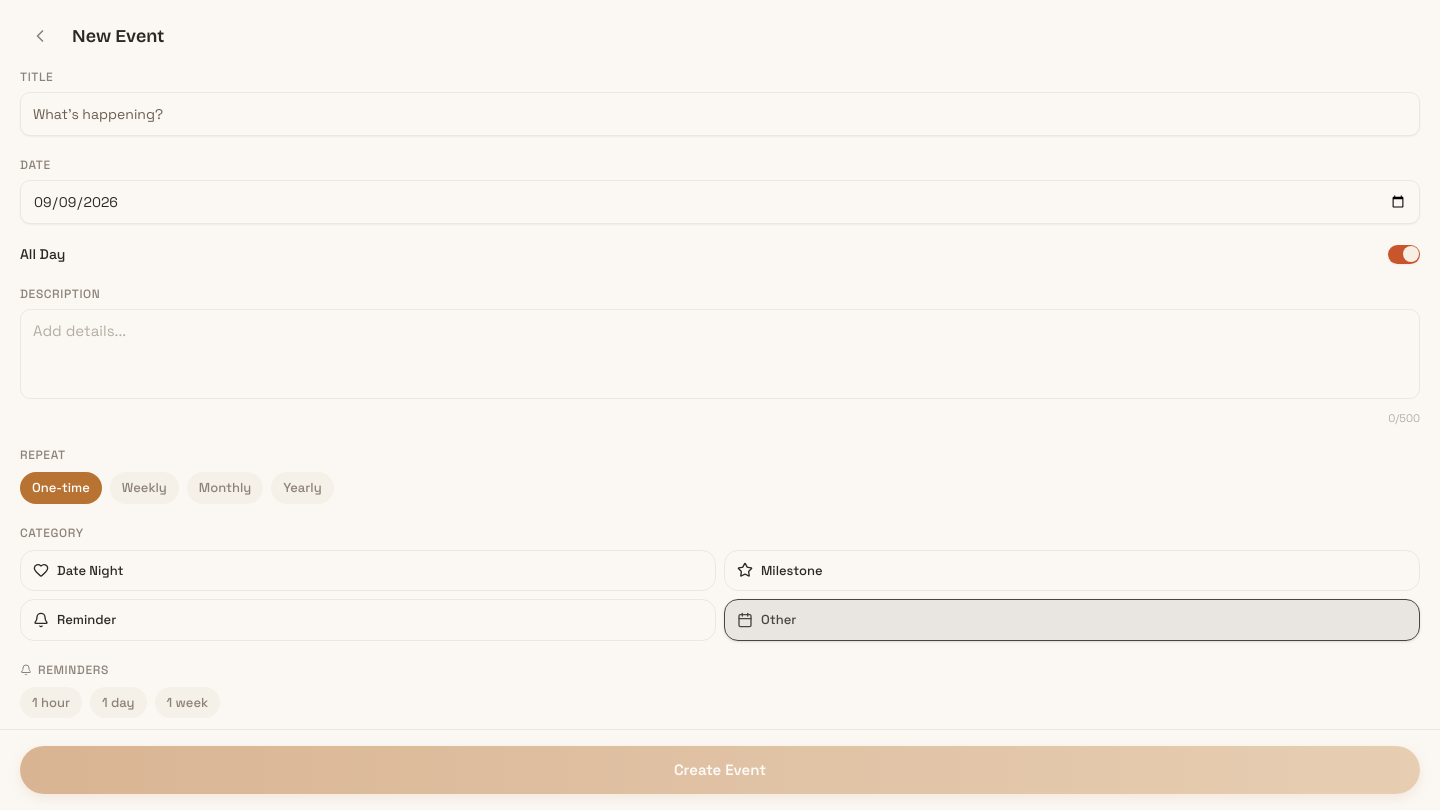
CreateEventForm › unit — create mode › shows time pickers when all-day is toggled off
This screenshot has width=1440, height=810.
Click the switch with test id "allday-toggle" at (1404, 254), box [1388,245,1420,264]
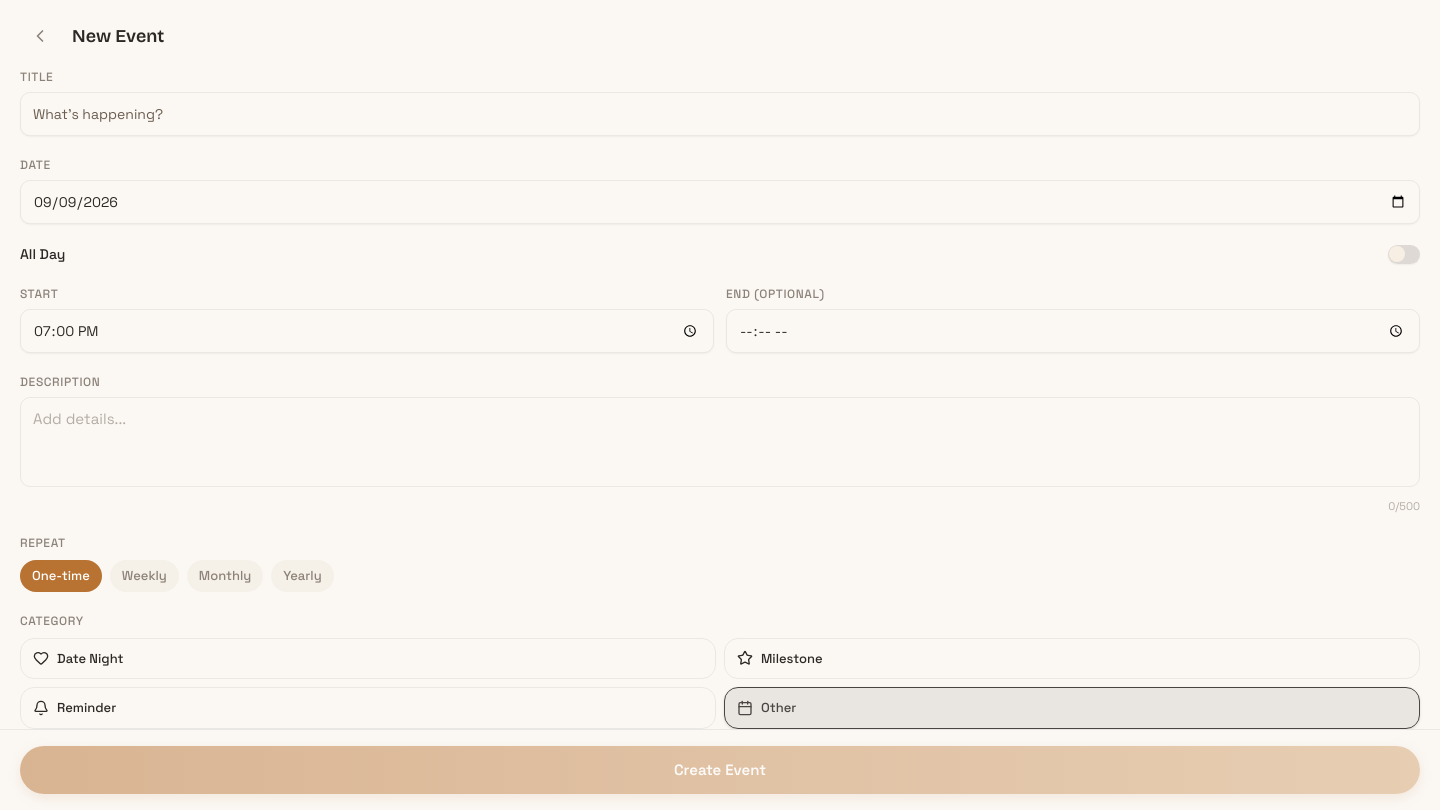
Expected: the element with test id "time-pickers" is shown, [20,285,1420,353]
Expected: the time field with test id "start-time-input" is shown, [20,309,714,353]
Expected: the time field with test id "end-time-input" is shown, [726,309,1420,353]
